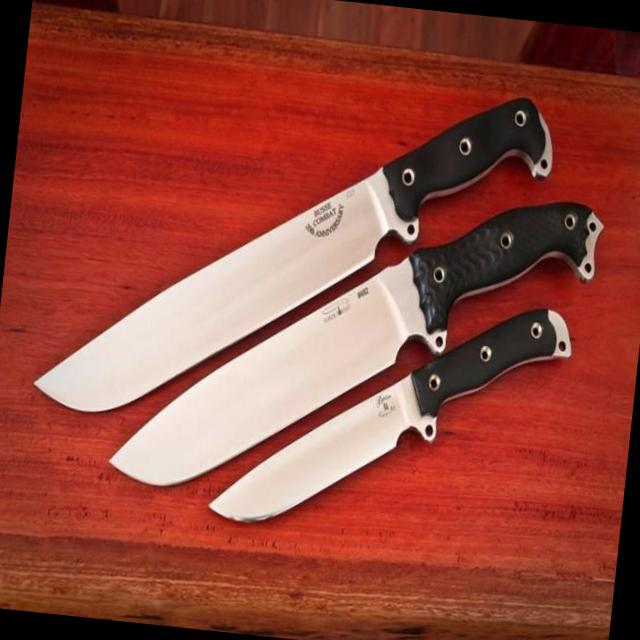Knife: (112, 202, 602, 484), (210, 310, 571, 521), (111, 259, 446, 485)
